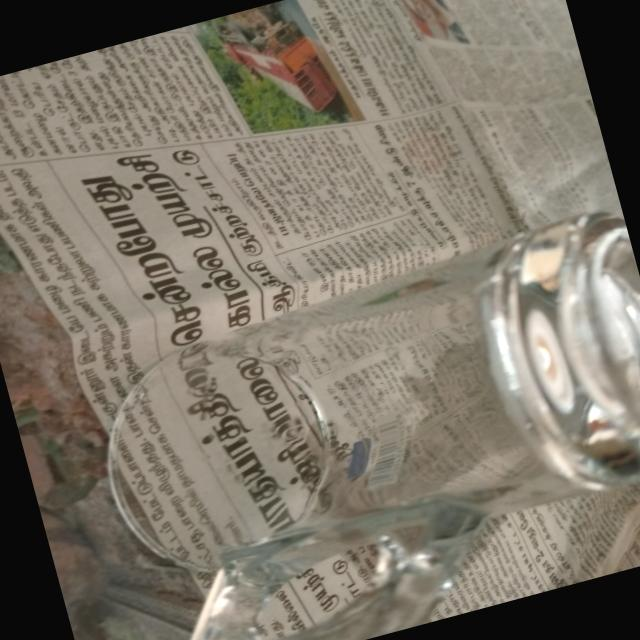glass-VX4N: (77, 202, 640, 640)
